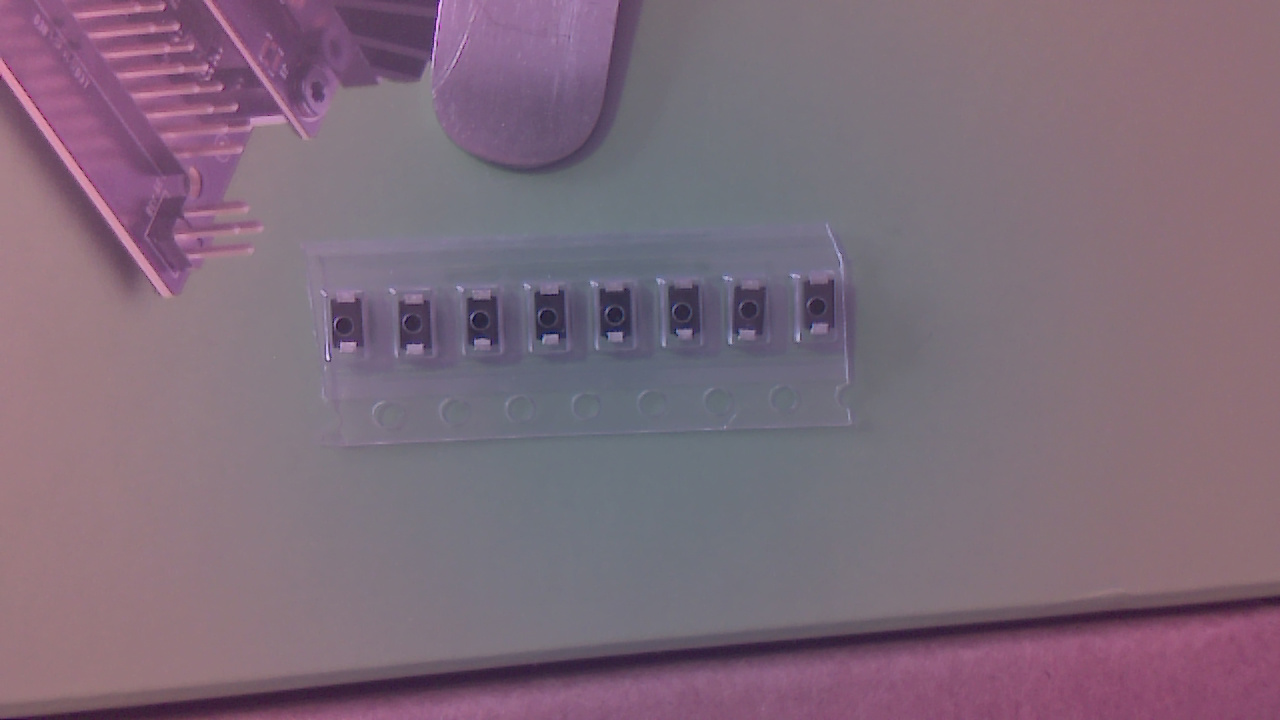Diode: (603, 286, 641, 351), (333, 295, 372, 357), (402, 295, 438, 362), (536, 288, 574, 350), (739, 281, 775, 345), (470, 295, 505, 360), (672, 283, 707, 348), (808, 278, 842, 341)
